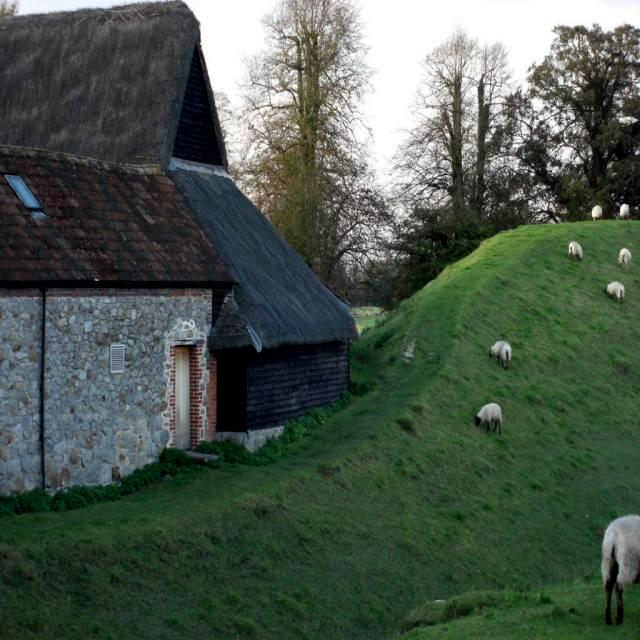sheep: (600, 515, 639, 620)
